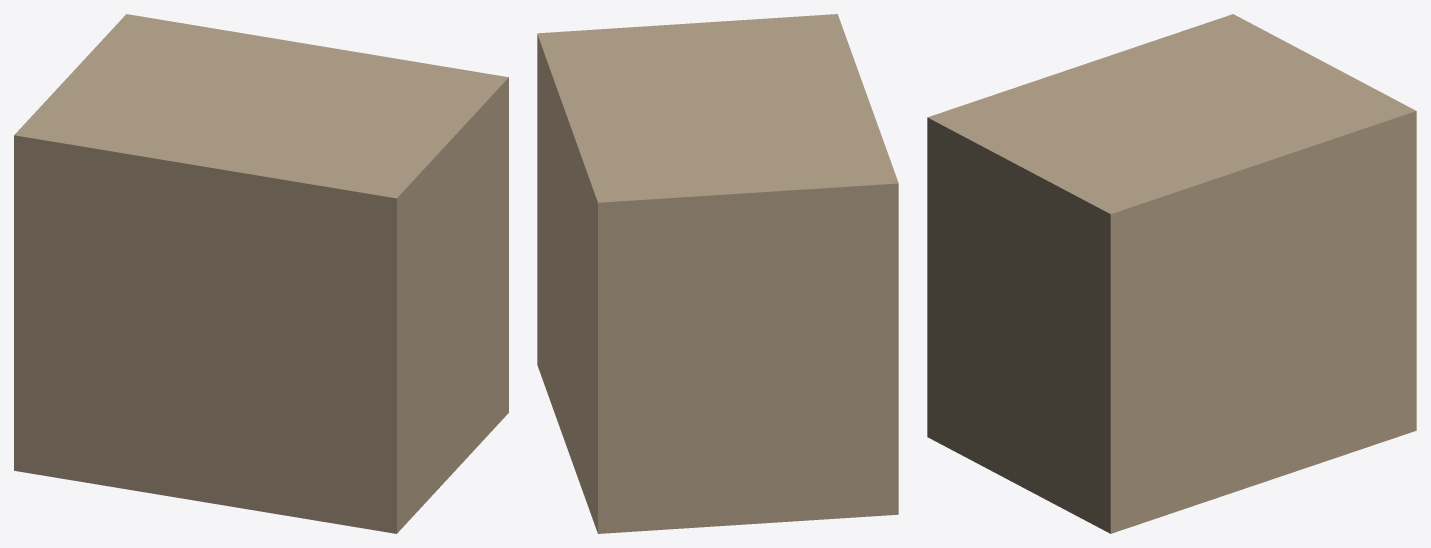
Rendered from bld_101979945.dae.
The picture shows the model from 3 angles, left to right: view 1: azimuth 30°, elevation 25°; view 2: azimuth 150°, elevation 25°; view 3: azimuth 270°, elevation 25°; orthographic projection. The views are drawn at different scales.
Visible parts, largest first — view 1: bld_101979945; view 2: bld_101979945; view 3: bld_101979945.
Part boxes in pixels (<box>): bld_101979945: <box>14,14,508,533</box>; bld_101979945: <box>537,14,898,533</box>; bld_101979945: <box>927,14,1416,533</box>.
Size of the model in its own units: 10.74 by 11.09 by 8.
